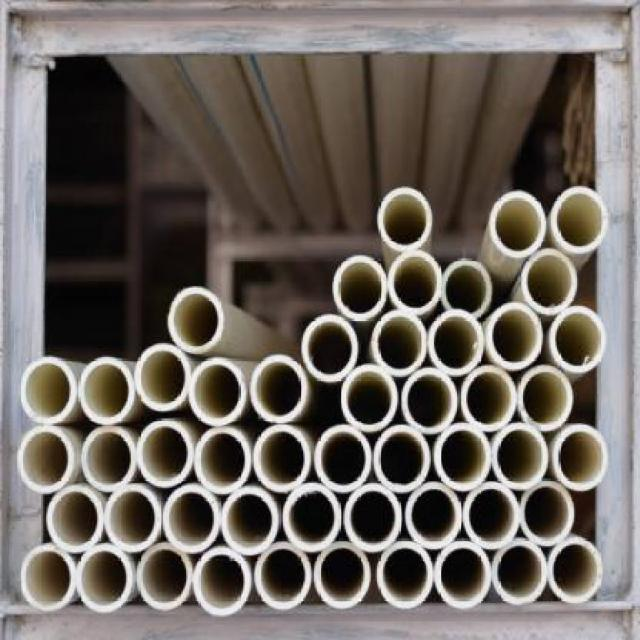pipe: (283, 483, 342, 554), (222, 486, 281, 557), (192, 546, 251, 617), (251, 354, 310, 423), (254, 425, 313, 493), (345, 485, 403, 554), (340, 365, 398, 433), (374, 426, 432, 494), (434, 540, 492, 608), (434, 423, 491, 492), (163, 485, 220, 554), (486, 303, 543, 371), (549, 306, 606, 374), (136, 345, 193, 413), (189, 359, 246, 427), (137, 420, 194, 488), (314, 425, 371, 493), (194, 426, 251, 494), (405, 482, 462, 550), (463, 482, 520, 550), (46, 486, 103, 554), (377, 542, 434, 610), (314, 542, 371, 610), (256, 542, 313, 610), (105, 485, 161, 554), (75, 545, 131, 614), (301, 315, 357, 383), (78, 357, 134, 425), (554, 425, 610, 493), (18, 426, 74, 494), (492, 539, 548, 607), (551, 188, 608, 254), (491, 191, 548, 257), (428, 310, 485, 376), (19, 359, 76, 425), (462, 366, 519, 432), (493, 423, 550, 489), (402, 368, 459, 433), (521, 250, 577, 316), (332, 256, 388, 322), (372, 310, 428, 376), (518, 365, 574, 431), (520, 480, 576, 546), (137, 543, 191, 611), (548, 539, 604, 604), (20, 546, 76, 611), (168, 286, 223, 352), (83, 426, 137, 492), (388, 251, 442, 316), (377, 188, 432, 251), (440, 259, 493, 319)
